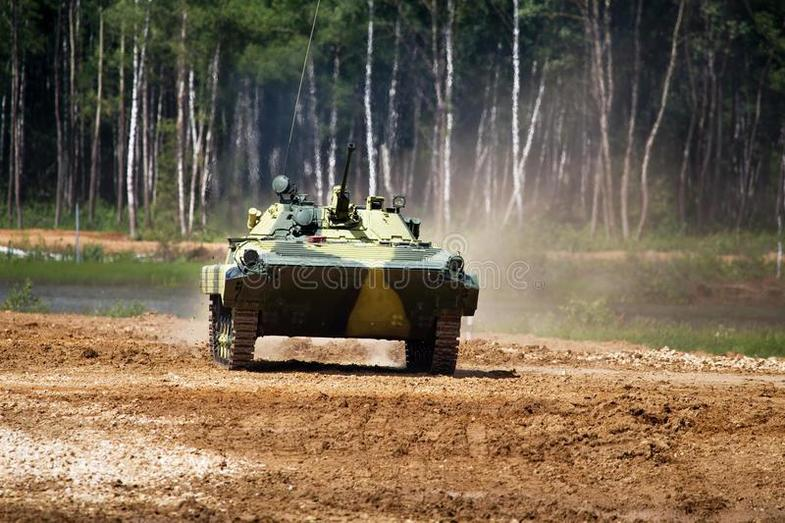bmp: (196, 178, 479, 369)
